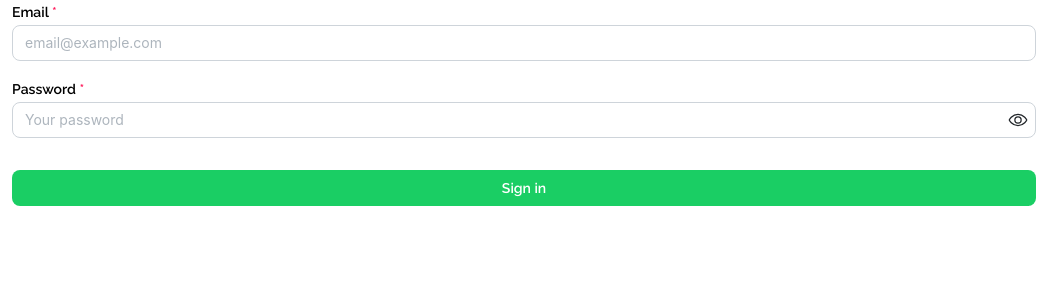
Scenario: SignInForm › shows API error message on failure
This screenshot has width=1048, height=294.
In the field with placeholder "email@example.com": (524, 43) [12,25,1036,61], type "user@example.com"
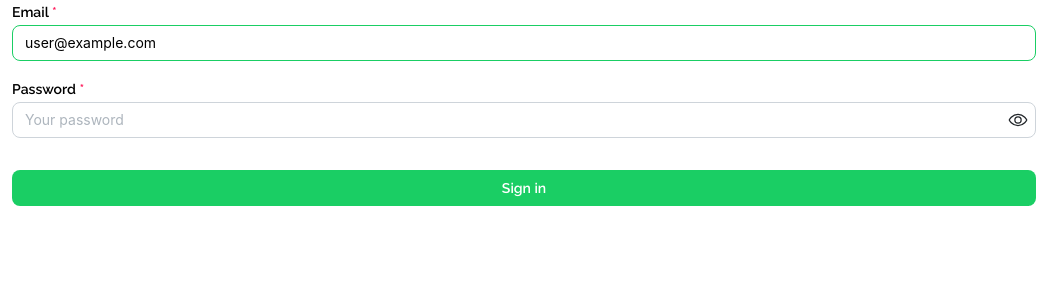
In the password field with placeholder "Your password": (524, 120) [13,103,1035,137], type "secret"
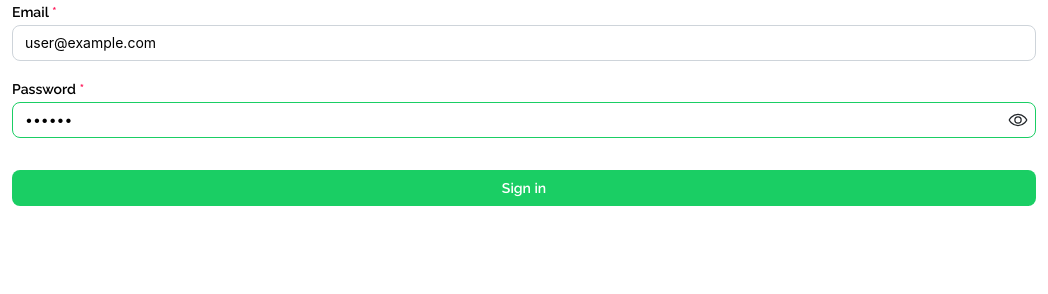
Click the button "Sign in": (524, 188) [12,170,1036,206]
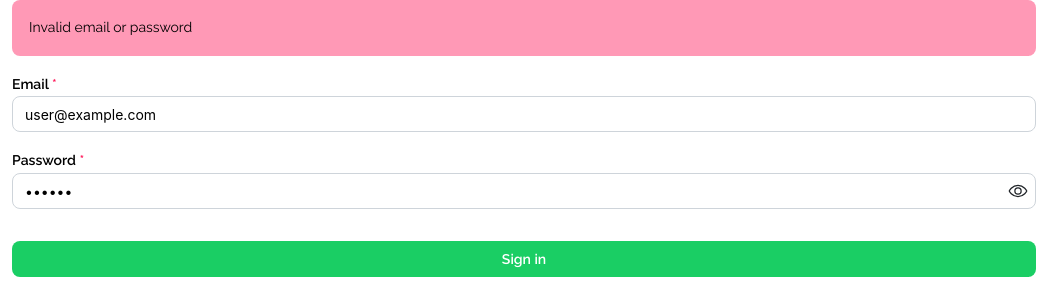
Check: the text "Invalid email or password" is shown, box [29,19,192,35]
